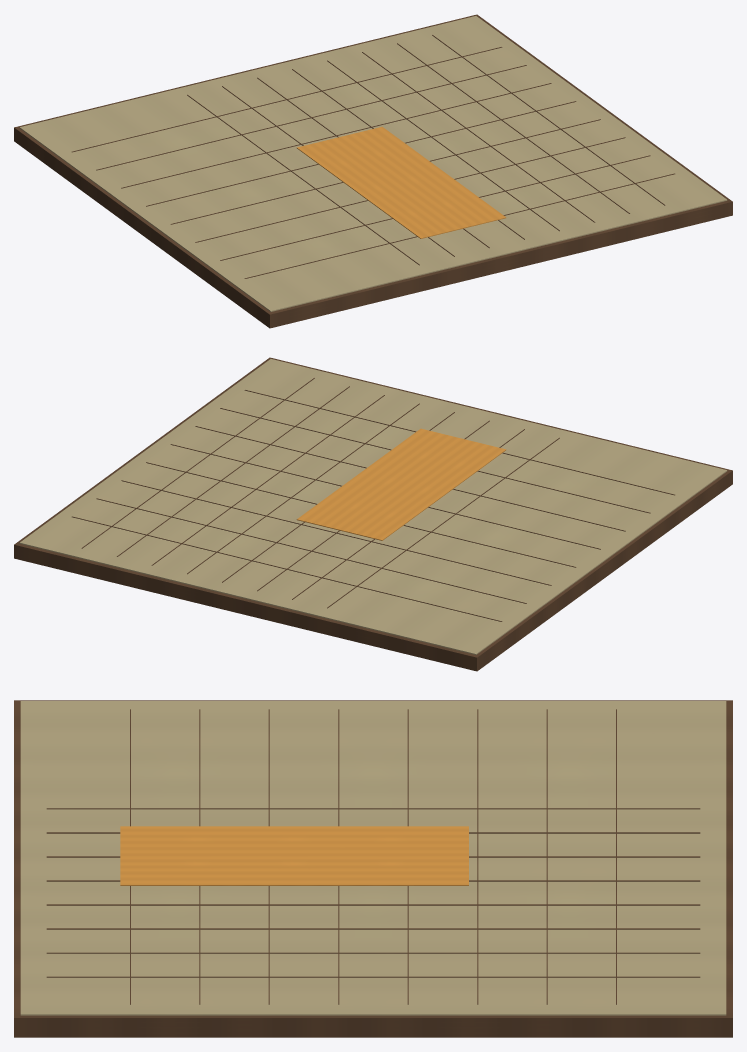
Rendered from atlas100-s015-a07.lod1.glb.
The picture shows the model from 3 angles, top to bottom: view 1: azimuth 30°, elevation 25°; view 2: azimuth 150°, elevation 25°; view 3: azimuth 270°, elevation 25°; orthographic projection. The views are drawn at different scales.
Visible parts, largest first — view 1: atlas100-s015-a07:part-001, atlas100-s015-a07:part-000, atlas100-s015-a07:part-021, atlas100-s015-a07:part-013, atlas100-s015-a07:part-014, atlas100-s015-a07:part-015, atlas100-s015-a07:part-020, atlas100-s015-a07:part-019, atlas100-s015-a07:part-018, atlas100-s015-a07:part-016, atlas100-s015-a07:part-017; view 2: atlas100-s015-a07:part-001, atlas100-s015-a07:part-000, atlas100-s015-a07:part-021, atlas100-s015-a07:part-013, atlas100-s015-a07:part-015, atlas100-s015-a07:part-014, atlas100-s015-a07:part-020, atlas100-s015-a07:part-016, atlas100-s015-a07:part-017, atlas100-s015-a07:part-018, atlas100-s015-a07:part-019; view 3: atlas100-s015-a07:part-001, atlas100-s015-a07:part-000, atlas100-s015-a07:part-021, atlas100-s015-a07:part-010, atlas100-s015-a07:part-009, atlas100-s015-a07:part-012, atlas100-s015-a07:part-005, atlas100-s015-a07:part-011, atlas100-s015-a07:part-006, atlas100-s015-a07:part-007, atlas100-s015-a07:part-008, atlas100-s015-a07:part-014 (+1 smaller).
Boxes of the visible parts, x1,y1,x2,y2 form: atlas100-s015-a07:part-001: (19,16,727,311); atlas100-s015-a07:part-000: (14,14,732,328); atlas100-s015-a07:part-021: (297,126,506,238); atlas100-s015-a07:part-013: (72,47,502,152); atlas100-s015-a07:part-014: (96,65,526,170); atlas100-s015-a07:part-015: (121,83,551,188); atlas100-s015-a07:part-020: (244,173,674,278); atlas100-s015-a07:part-019: (220,155,650,260); atlas100-s015-a07:part-018: (195,137,625,242); atlas100-s015-a07:part-016: (146,101,576,206); atlas100-s015-a07:part-017: (170,119,600,224); atlas100-s015-a07:part-001: (19,359,727,654); atlas100-s015-a07:part-000: (14,357,732,671); atlas100-s015-a07:part-021: (296,428,506,540); atlas100-s015-a07:part-013: (72,516,502,621); atlas100-s015-a07:part-015: (121,480,551,585); atlas100-s015-a07:part-014: (96,498,526,603); atlas100-s015-a07:part-020: (244,390,674,495); atlas100-s015-a07:part-016: (146,462,576,567); atlas100-s015-a07:part-017: (170,444,600,549); atlas100-s015-a07:part-018: (195,426,625,531); atlas100-s015-a07:part-019: (220,408,650,513); atlas100-s015-a07:part-001: (20,701,726,1015); atlas100-s015-a07:part-000: (14,700,732,1037); atlas100-s015-a07:part-021: (120,826,468,885); atlas100-s015-a07:part-010: (46,928,700,929); atlas100-s015-a07:part-009: (46,904,700,905); atlas100-s015-a07:part-012: (46,976,700,977); atlas100-s015-a07:part-005: (46,808,700,809); atlas100-s015-a07:part-011: (46,952,700,953); atlas100-s015-a07:part-006: (46,832,700,833); atlas100-s015-a07:part-007: (46,856,700,857); atlas100-s015-a07:part-008: (46,880,700,881); atlas100-s015-a07:part-014: (546,709,547,1004).
Bounding box in the file's own units: 11.9 × 0.404 × 11.39.
Materials: 3 (3 with a texture image).
